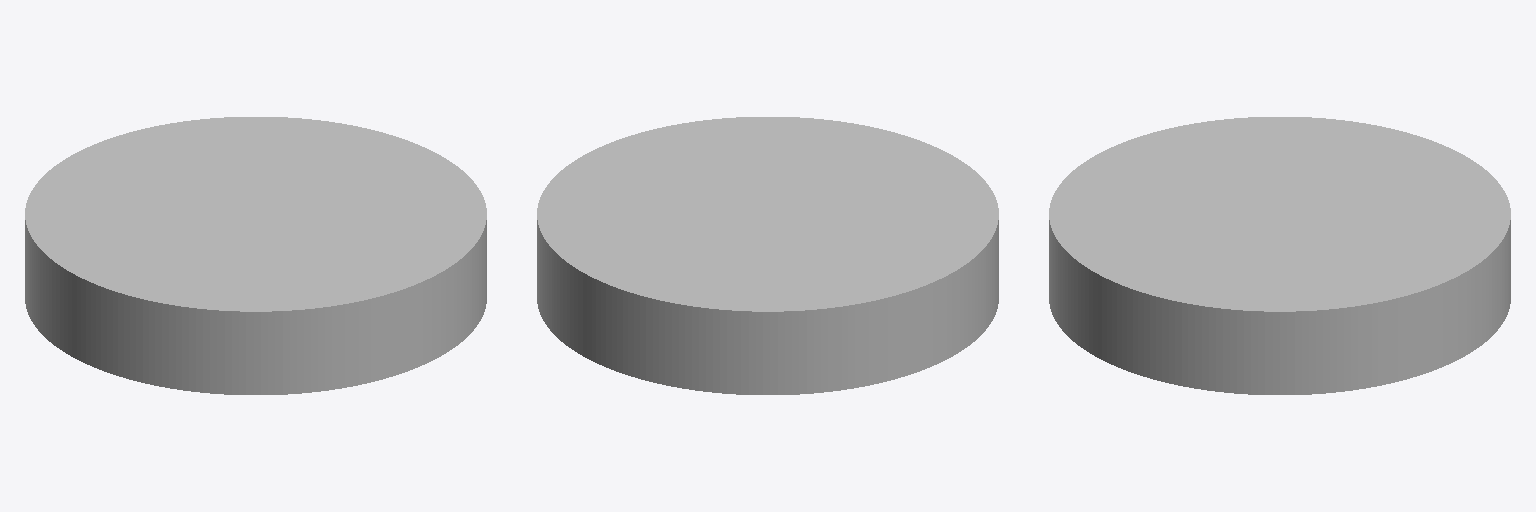
The model's file is layer_light.obj.
The picture shows the model from 3 angles: view 1: azimuth 30°, elevation 25°; view 2: azimuth 150°, elevation 25°; view 3: azimuth 270°, elevation 25°; orthographic projection.
Visible parts, largest first — view 1: Cylinder; view 2: Cylinder; view 3: Cylinder.
Part boxes in pixels (x1,y1,x2,y2): Cylinder: (25,117,486,394); Cylinder: (537,117,998,394); Cylinder: (1049,117,1510,394).
Size of the model in its own units: 0.05 by 0.01 by 0.05.